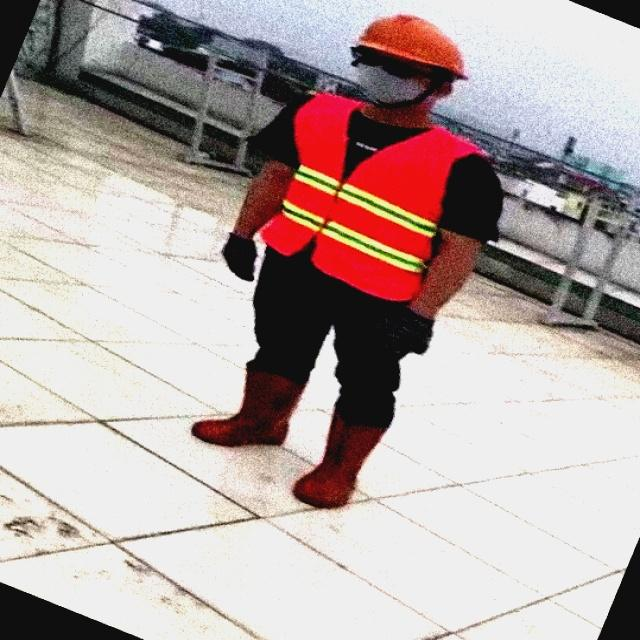Capacete: (357, 14, 466, 78)
Colete: (261, 94, 485, 300)
Oculos: (352, 48, 422, 77)
